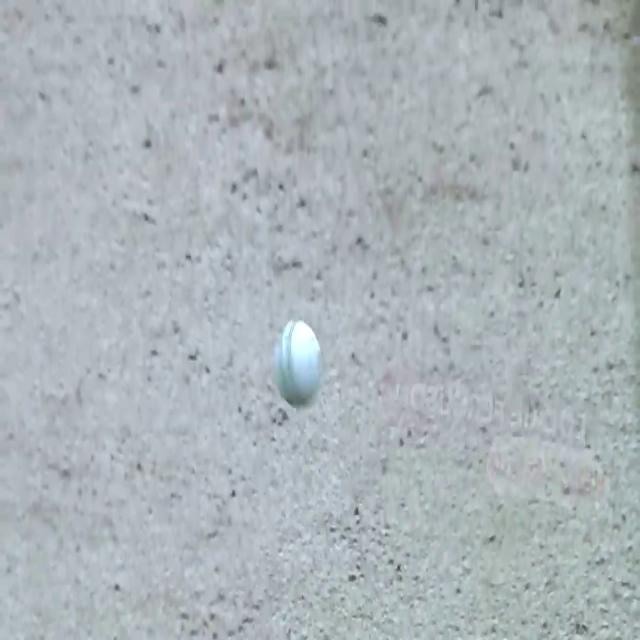ball: (272, 310, 326, 414)
